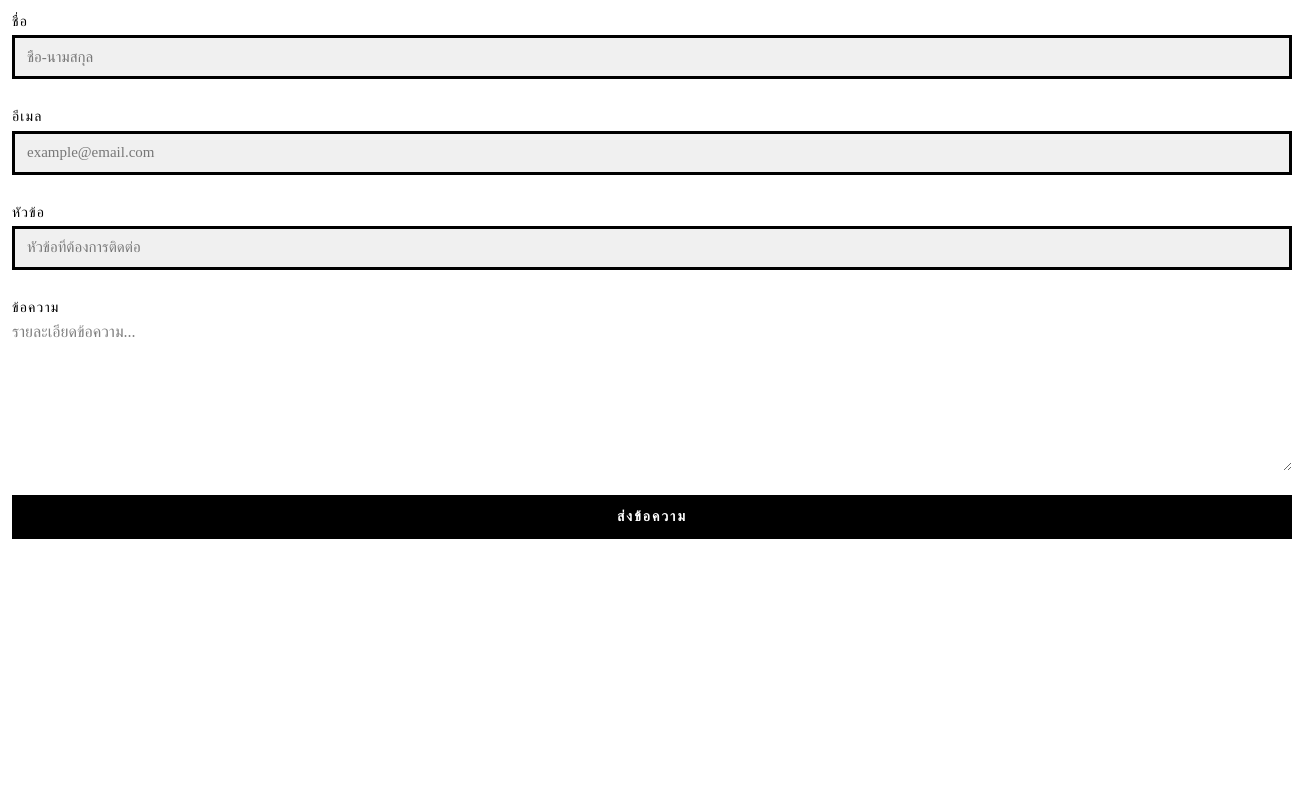
ContactForm › shows server error message on failed submission
Type "John Doe" into the field with placeholder "ชื่อ-นามสกุล" at (652, 57), box [12,35,1292,79]
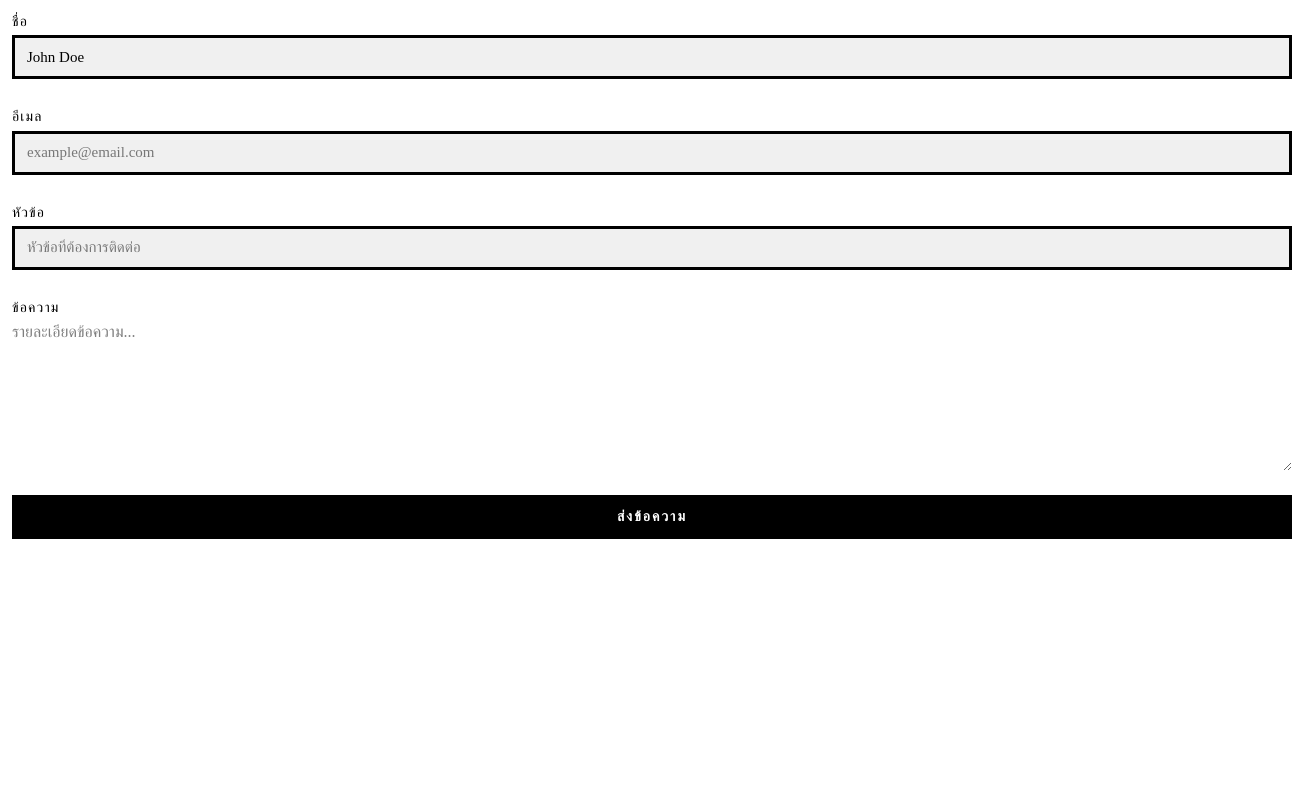
Type "john@example.com" into the field with placeholder "example@email.com" at (652, 152), box [12,130,1292,174]
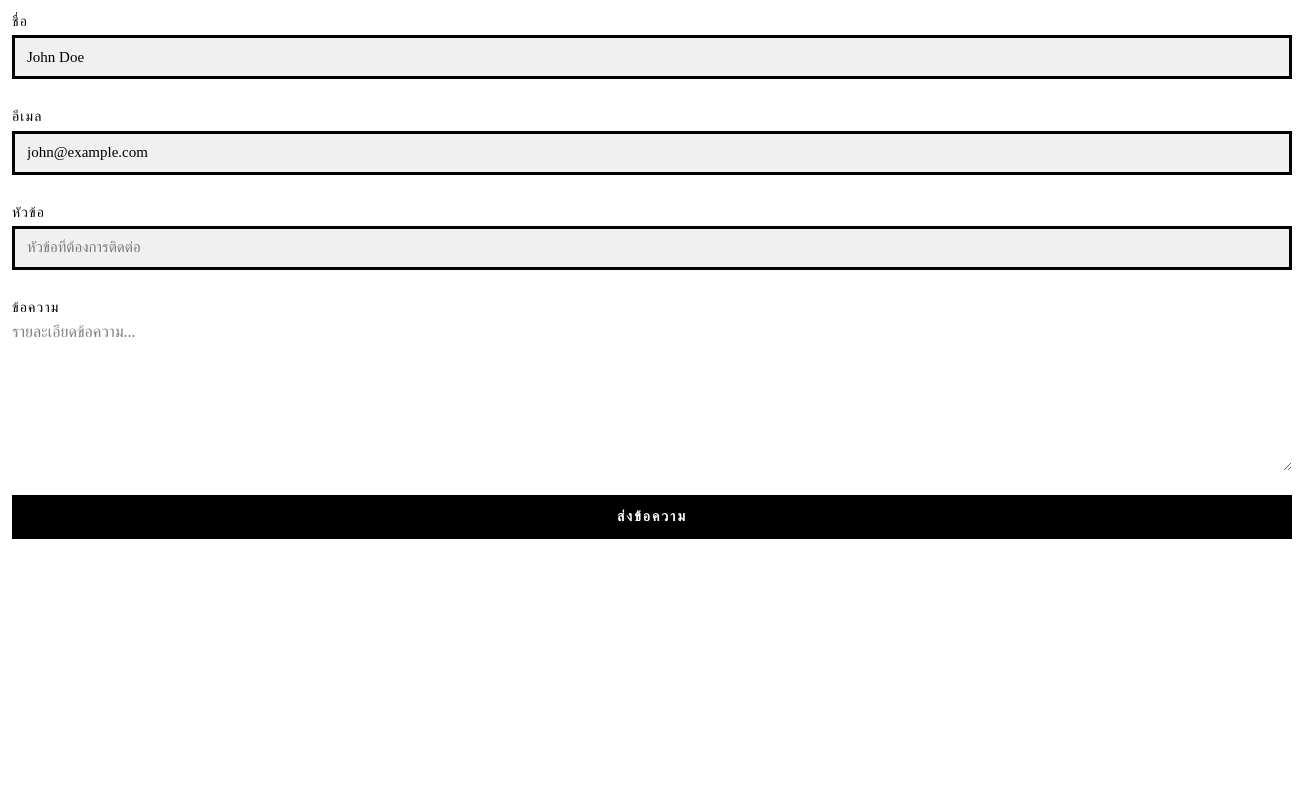
Type "Hello" into the field with placeholder "หัวข้อที่ต้องการติดต่อ" at (652, 248), box [12,226,1292,270]
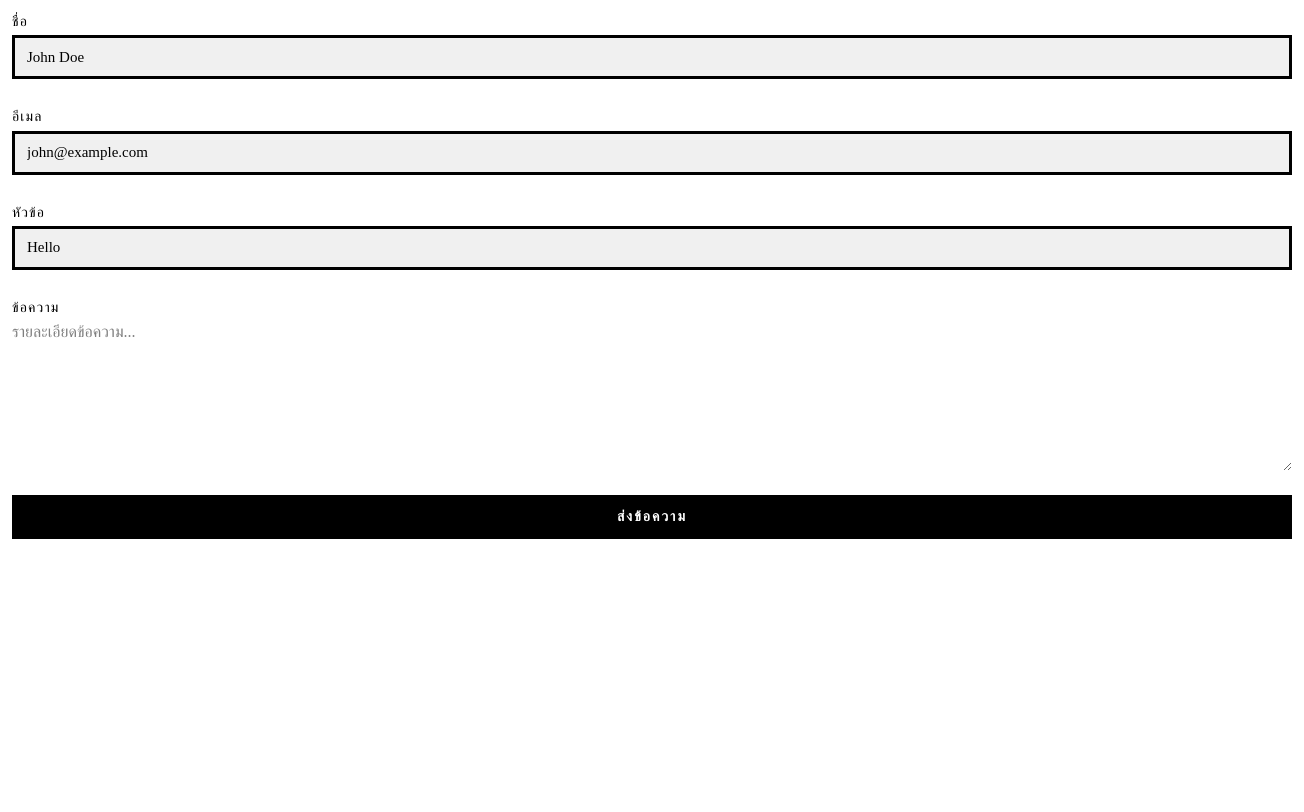
Type "This is a test message long enough" into the text box with placeholder "รายละเอียดข้อความ..." at (652, 396), box [12,321,1292,471]
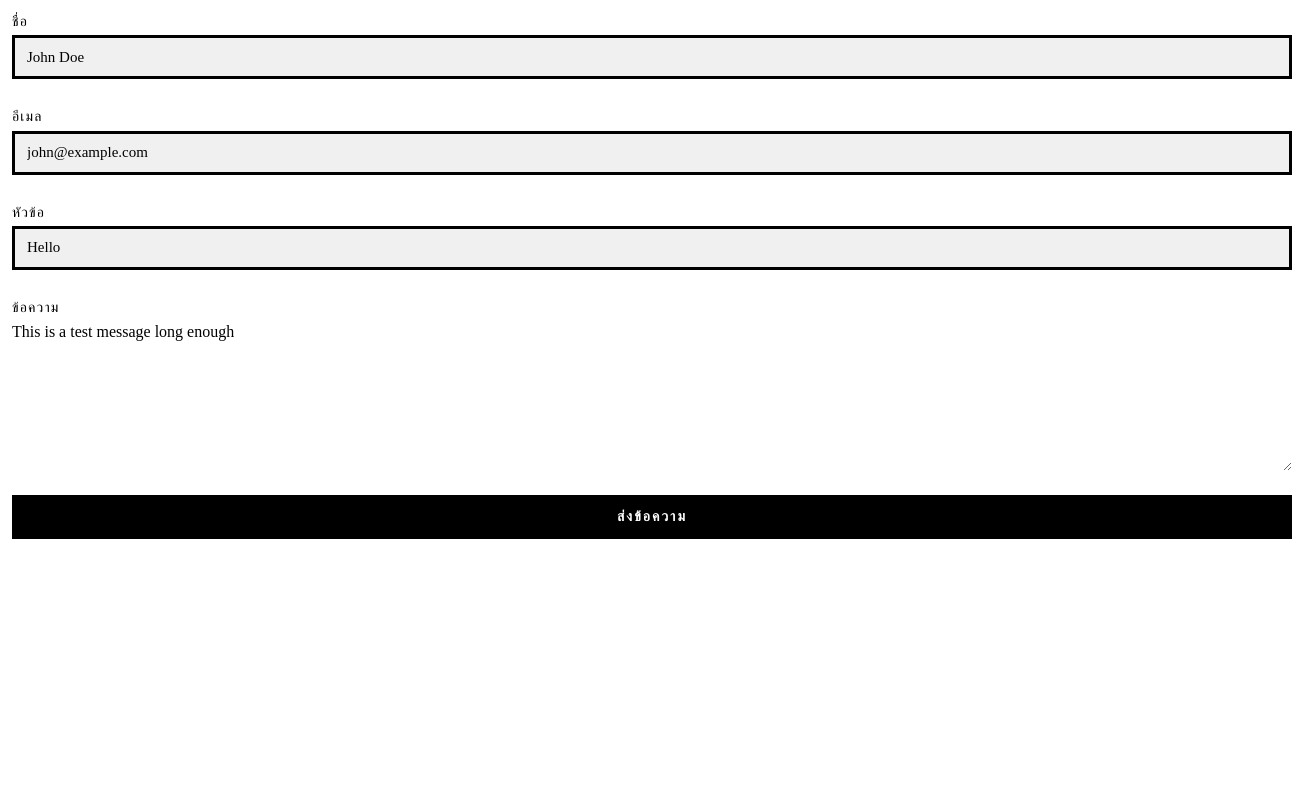
Click the button "ส่งข้อความ" at (652, 517), box [12,495,1292,539]
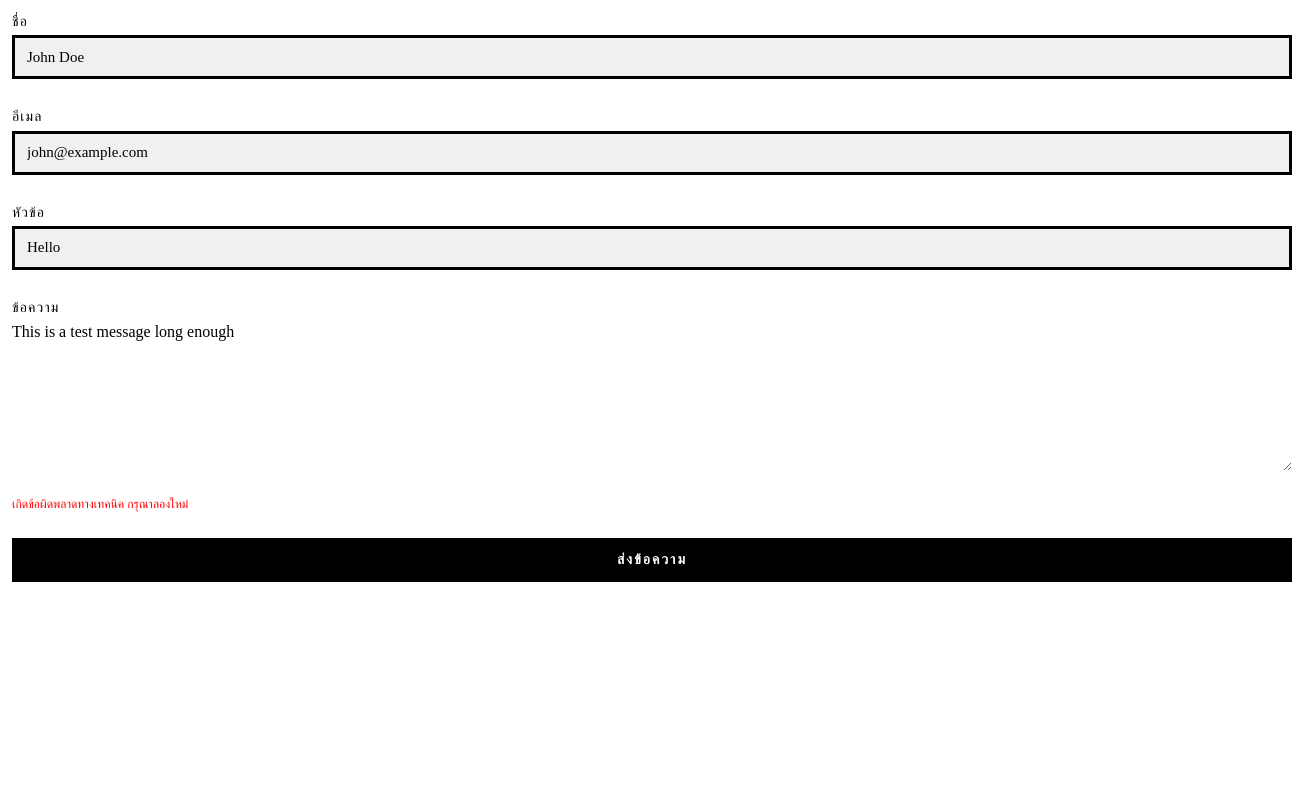
Expected: the text "เกิดข้อผิดพลาดทางเทคนิค กรุณาลองใหม่" is shown, [12,497,188,511]
